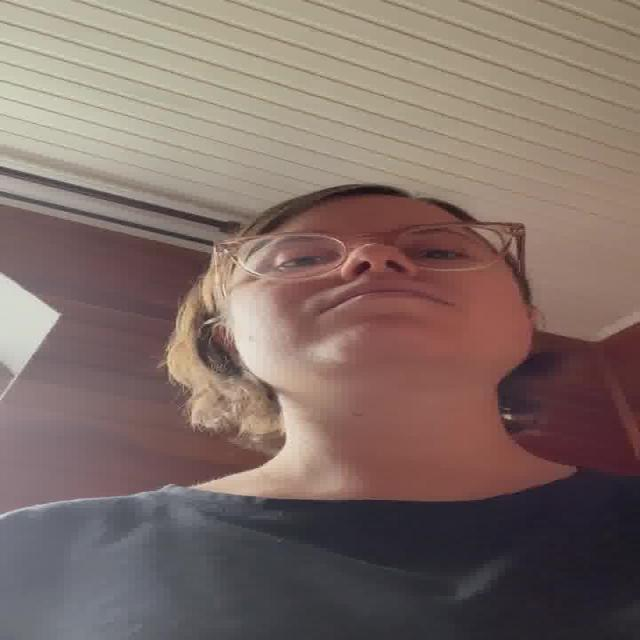eye: (271, 254, 337, 268), (409, 247, 469, 261)
nose: (339, 270, 418, 281)
